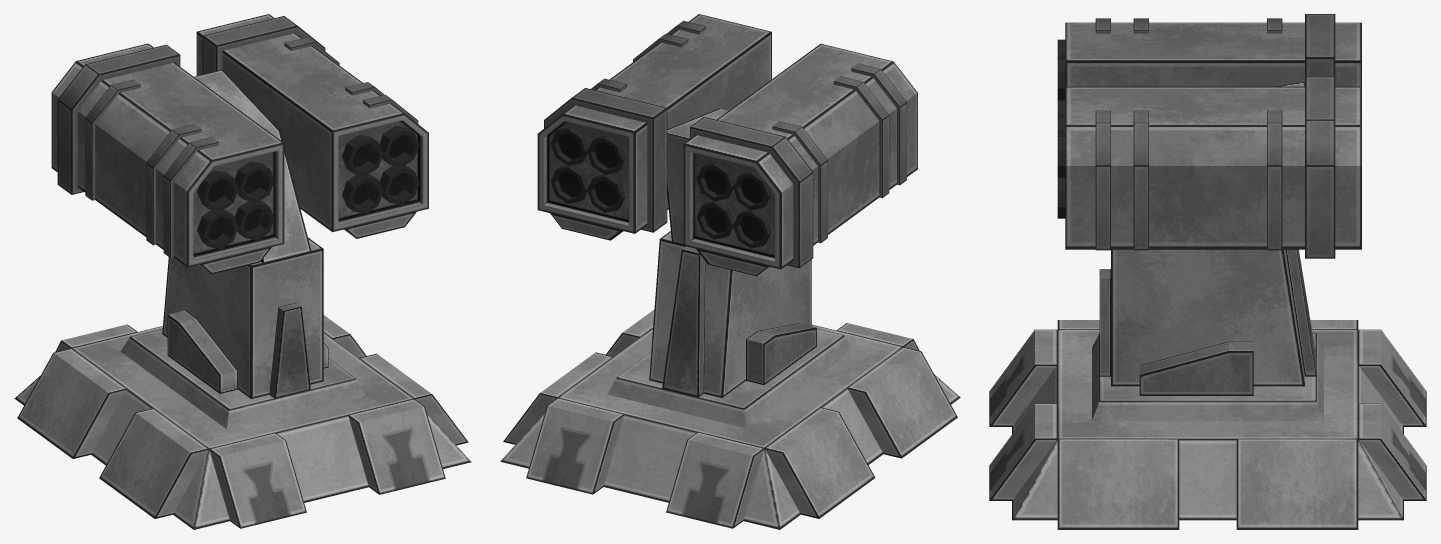
Rendered from MRLS Battery.fbx.
3 views of the same model, side by side, from view 1: azimuth 30°, elevation 25°; view 2: azimuth 150°, elevation 25°; view 3: azimuth 270°, elevation 25° (orthographic). The views are drawn at different scales.
Visible parts, largest first — view 1: polySurface337; view 2: polySurface337; view 3: polySurface337.
Boxes of the visible parts, x1,y1,x2,y2 form: polySurface337: [14, 14, 471, 529]; polySurface337: [500, 14, 960, 529]; polySurface337: [989, 14, 1426, 529].
Size of the model in its own units: 93.6 by 99 by 103.
1 material, 1 textured.
